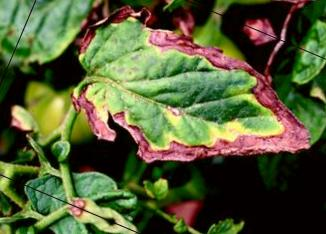Tomato leaf bacterial spot: (48, 0, 326, 222)
